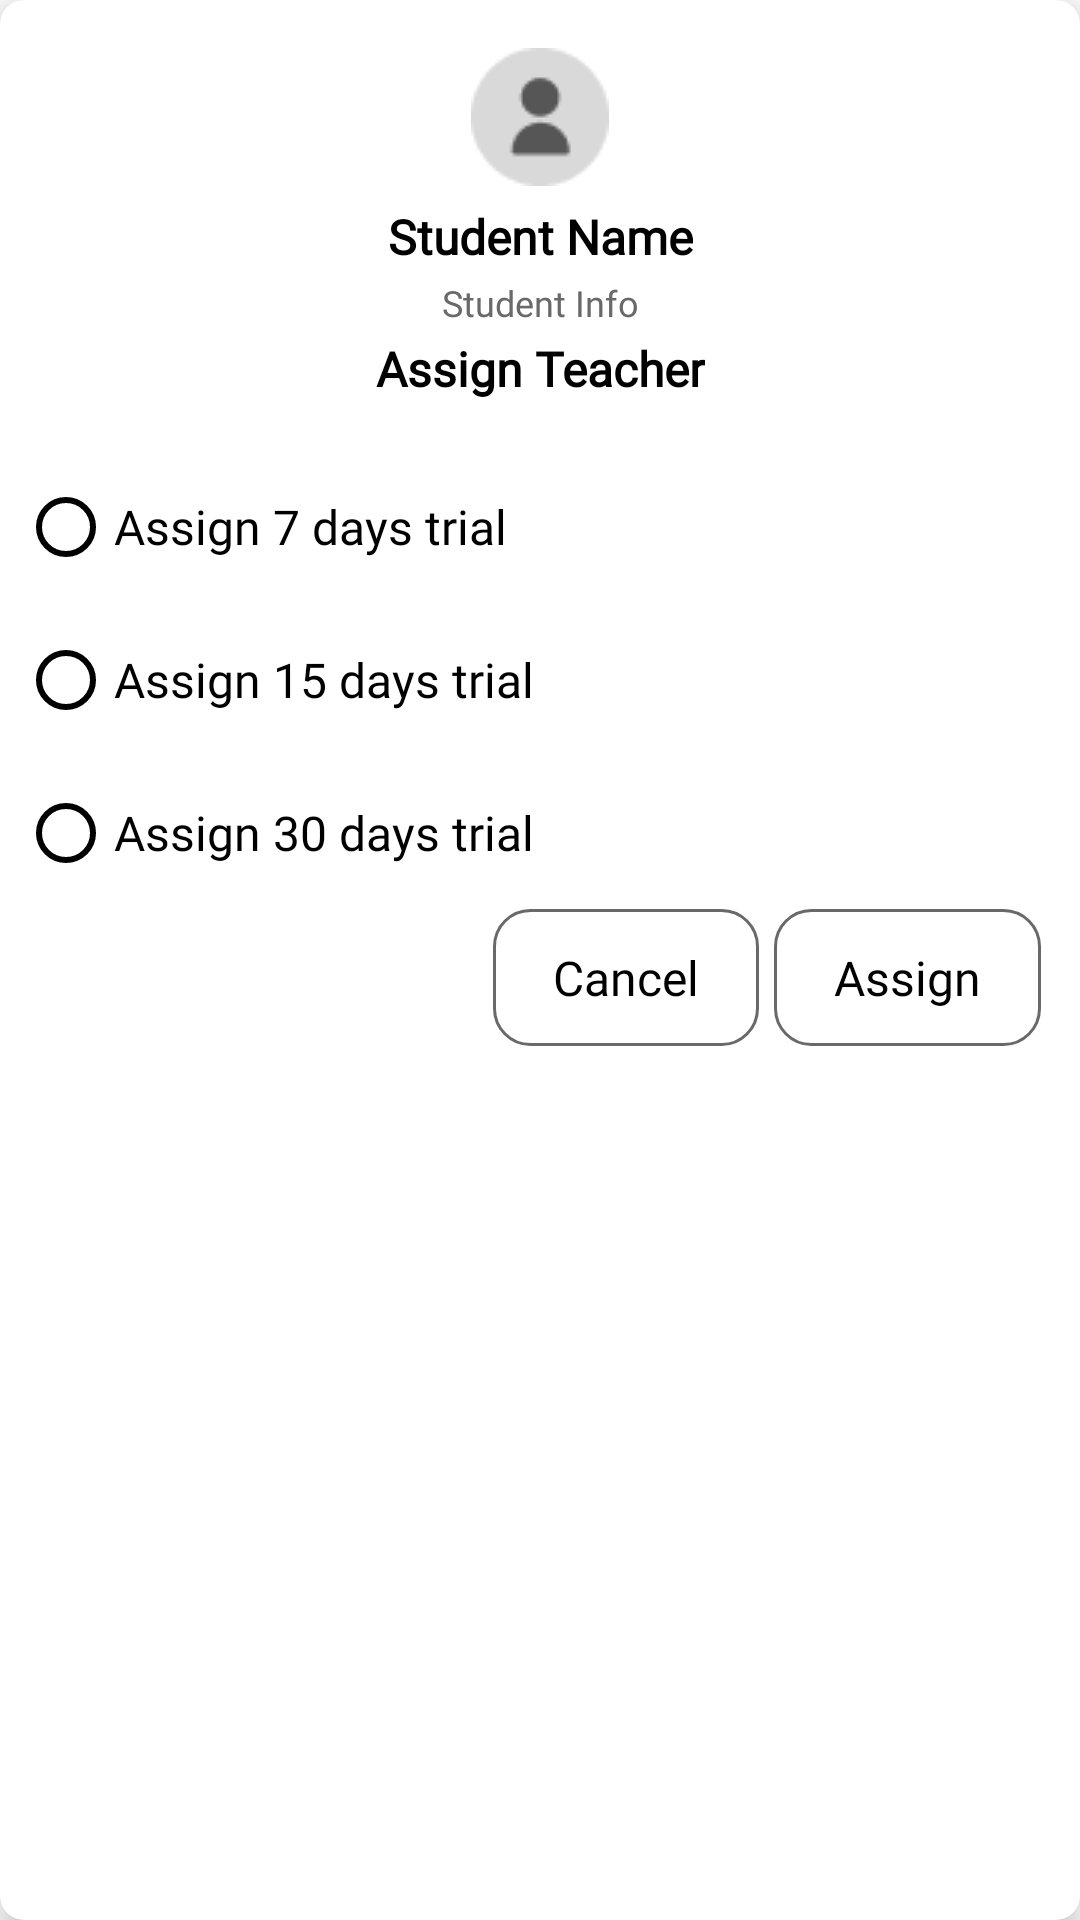

Named icons in this screenshot (1080w x 1920h) and their bounding boxes, [x1,y1,x2,y2]:
profile: [471,48,609,186]
